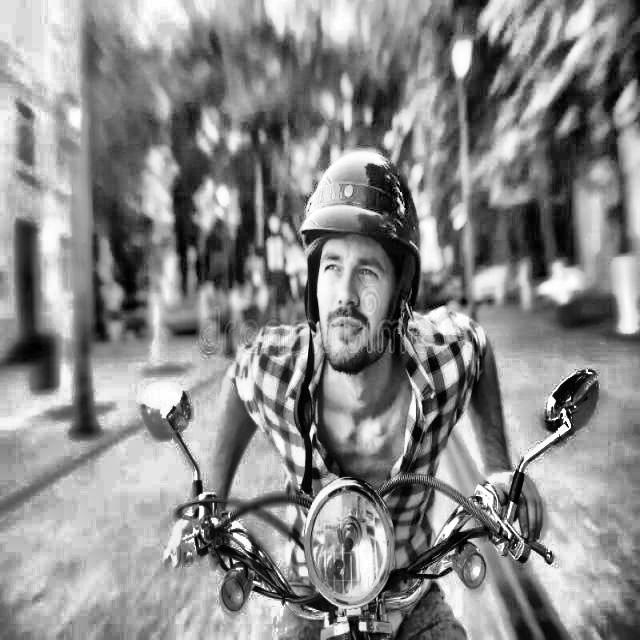Helmet: (290, 145, 426, 499)
